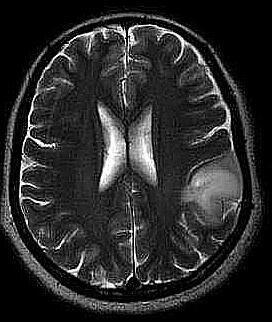Normal_Brain: (1, 2, 272, 322)
